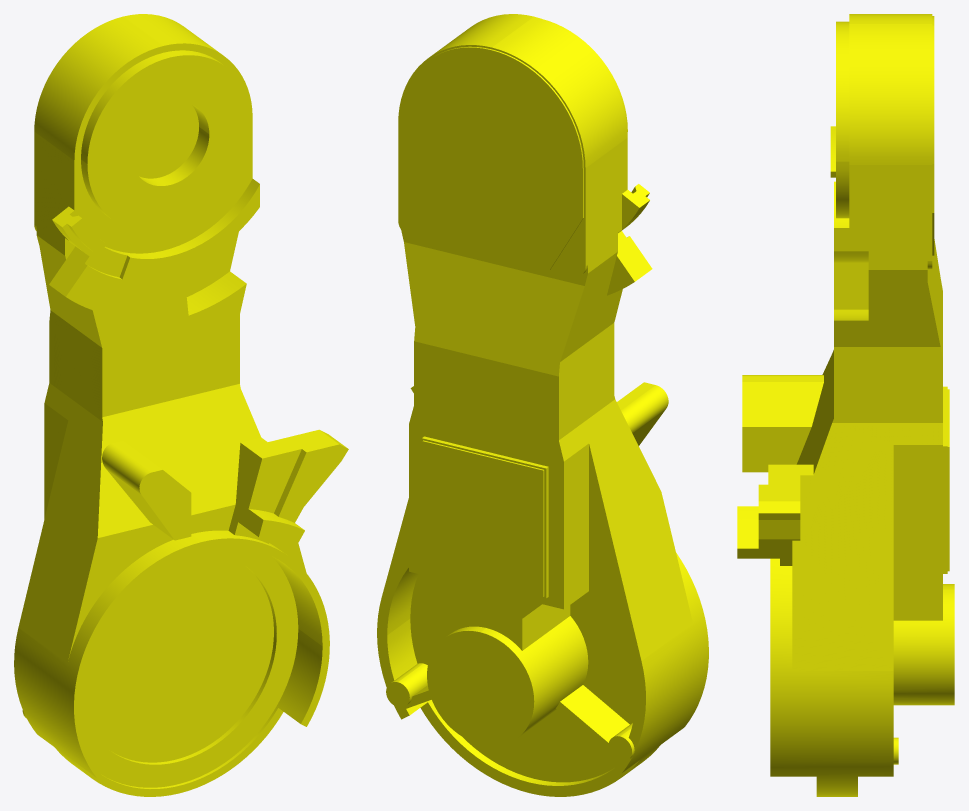
The picture shows the model from 3 angles, left to right: view 1: azimuth 30°, elevation 25°; view 2: azimuth 150°, elevation 25°; view 3: azimuth 270°, elevation 25°; orthographic projection. The views are drawn at different scales.
Visible parts, largest first — view 1: Mesh_0; view 2: Mesh_0; view 3: Mesh_0.
Boxes of the visible parts, bbox=[...] form: Mesh_0: bbox=[14, 14, 348, 796]; Mesh_0: bbox=[377, 14, 708, 796]; Mesh_0: bbox=[737, 14, 954, 796].
Bounding box in the file's own units: 0.3325 × 0.225 × 0.868.
